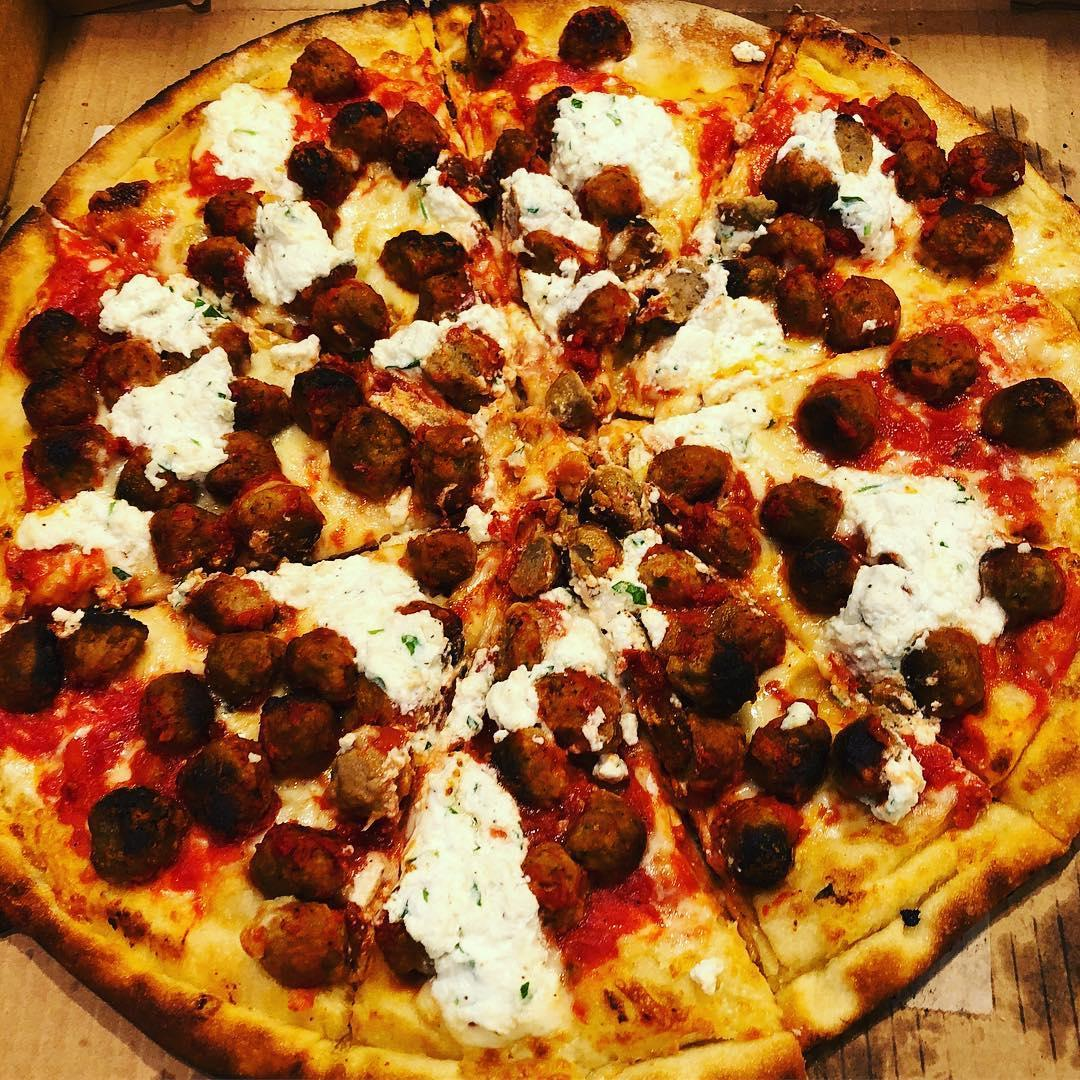Cheese: (405, 783, 547, 974), (215, 89, 337, 289), (853, 463, 987, 611), (563, 93, 709, 213), (295, 573, 427, 695), (653, 306, 767, 439), (26, 486, 141, 569), (126, 378, 223, 467), (551, 585, 637, 668), (118, 268, 191, 347), (459, 671, 536, 725)
Ham: (650, 591, 781, 704), (658, 458, 769, 580), (883, 121, 1021, 207), (741, 203, 843, 309), (316, 96, 451, 173), (523, 815, 601, 940), (278, 268, 389, 355), (323, 723, 401, 840), (726, 703, 841, 782), (416, 318, 515, 409), (375, 220, 473, 311), (768, 268, 893, 339), (426, 413, 493, 544), (246, 828, 357, 906), (83, 798, 179, 888), (716, 810, 821, 892), (978, 378, 1079, 463), (776, 532, 867, 623), (976, 535, 1061, 628), (326, 410, 409, 505), (260, 893, 357, 972), (903, 630, 985, 722), (798, 385, 891, 465), (13, 303, 103, 383), (191, 560, 281, 638), (286, 626, 369, 710), (890, 313, 977, 391), (283, 356, 359, 445), (18, 363, 109, 437), (168, 760, 259, 834), (493, 730, 577, 810), (648, 710, 725, 792), (258, 703, 343, 776), (233, 473, 311, 552), (130, 676, 211, 750), (3, 623, 61, 720), (838, 713, 907, 794), (916, 213, 1011, 271), (566, 793, 631, 876), (66, 605, 129, 690), (543, 676, 625, 738), (555, 5, 629, 73), (26, 438, 105, 501), (280, 31, 357, 95), (766, 480, 839, 546), (153, 503, 215, 580), (176, 240, 249, 305), (557, 291, 630, 356), (501, 525, 561, 600), (456, 10, 519, 81), (196, 641, 273, 698), (235, 368, 297, 435), (483, 116, 543, 185), (403, 523, 459, 596), (190, 183, 255, 245), (545, 367, 601, 436), (513, 229, 600, 273), (853, 98, 925, 149), (565, 469, 641, 517), (768, 148, 833, 199), (586, 173, 645, 225), (295, 145, 345, 201), (206, 453, 269, 497), (649, 267, 696, 324), (611, 231, 666, 277), (493, 607, 532, 662), (569, 531, 609, 573)
Pizza: (0, 3, 1080, 1080)
